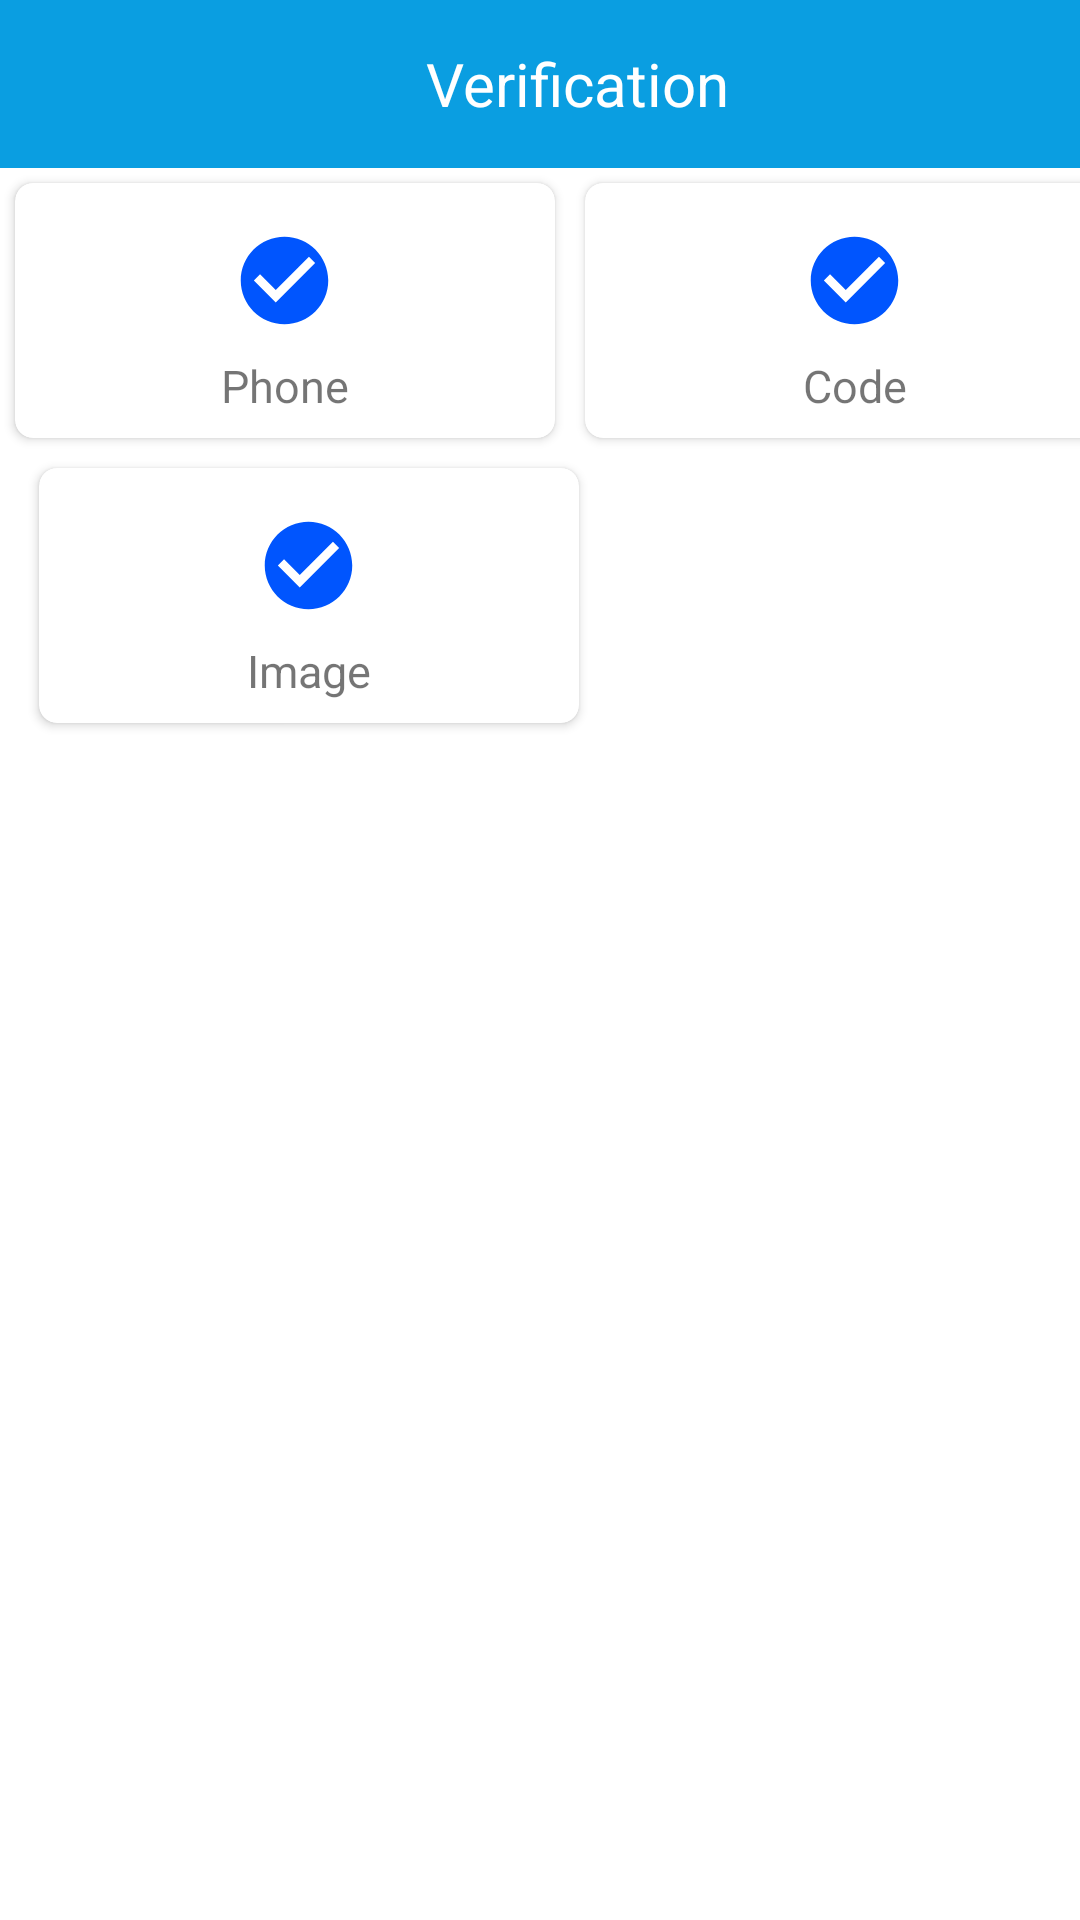

Where icons sit on this 1080*1920 app screen, as (x1, y1, x2, y2):
check circle: (240, 236, 329, 325), (810, 236, 899, 325), (264, 521, 353, 610)
